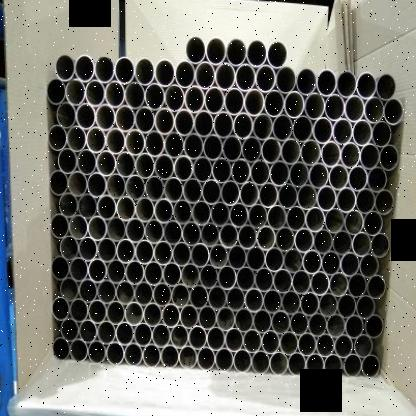pipe: (185, 34, 206, 64), (226, 36, 247, 66), (124, 80, 145, 109), (134, 57, 155, 86), (94, 54, 115, 83), (267, 40, 288, 69), (275, 64, 296, 93), (164, 83, 185, 112), (235, 62, 256, 91), (246, 38, 267, 67), (296, 66, 317, 95), (224, 86, 244, 116), (195, 60, 215, 90), (114, 104, 135, 132), (85, 125, 106, 153), (114, 56, 135, 84), (74, 54, 95, 82), (174, 60, 195, 88), (356, 71, 377, 99), (154, 58, 175, 86), (134, 105, 155, 133), (202, 133, 223, 161), (84, 78, 105, 106), (193, 109, 214, 137), (272, 114, 293, 142), (173, 108, 194, 136), (300, 138, 321, 166), (363, 95, 384, 123), (320, 140, 341, 168), (316, 68, 337, 96), (252, 112, 273, 140), (312, 116, 333, 144), (204, 86, 224, 115), (215, 61, 235, 90), (105, 79, 125, 108), (264, 89, 284, 118), (154, 106, 174, 135), (144, 81, 164, 110), (244, 87, 264, 116), (184, 84, 204, 113), (376, 73, 397, 100), (144, 130, 165, 157), (304, 92, 325, 119), (277, 182, 298, 209), (106, 172, 126, 200), (55, 52, 75, 80), (95, 103, 115, 131), (46, 77, 66, 105), (164, 130, 184, 158), (206, 36, 226, 64), (115, 150, 135, 178), (222, 134, 242, 162), (213, 110, 233, 138), (66, 124, 86, 152), (87, 170, 107, 198), (261, 136, 281, 164), (336, 70, 356, 98), (284, 90, 304, 118), (344, 94, 364, 122), (352, 118, 372, 146), (183, 132, 203, 160), (324, 93, 344, 121), (269, 160, 290, 186), (288, 161, 309, 187), (316, 185, 337, 211), (328, 164, 349, 190), (332, 118, 353, 144), (56, 101, 76, 128), (292, 115, 312, 142), (154, 153, 174, 180), (379, 144, 399, 171), (336, 186, 356, 213), (383, 97, 403, 124), (340, 141, 360, 168), (125, 128, 144, 156), (256, 64, 275, 92), (66, 78, 85, 106), (372, 120, 391, 148), (348, 164, 367, 192), (233, 111, 252, 139), (250, 158, 269, 186), (153, 240, 173, 266), (163, 219, 183, 245), (172, 198, 192, 224), (143, 260, 163, 286), (305, 206, 325, 232), (144, 175, 164, 201), (49, 170, 69, 196), (125, 216, 145, 242), (125, 174, 145, 200), (78, 236, 98, 262), (256, 224, 276, 250), (281, 138, 301, 164), (173, 154, 193, 180), (313, 228, 333, 254), (106, 258, 126, 284), (286, 205, 306, 231), (308, 162, 328, 188), (180, 262, 200, 288), (68, 214, 88, 240), (332, 229, 352, 255), (310, 270, 330, 296), (347, 272, 367, 298), (67, 170, 87, 196), (281, 289, 301, 315), (106, 216, 126, 242), (283, 248, 303, 274), (59, 276, 79, 302), (324, 207, 344, 233), (367, 166, 387, 192), (106, 127, 125, 154), (77, 148, 96, 175), (212, 156, 231, 183), (76, 102, 95, 129), (360, 142, 379, 169), (231, 158, 250, 185), (96, 149, 115, 176), (297, 184, 317, 209), (78, 278, 98, 303), (302, 249, 322, 274), (326, 313, 346, 338), (124, 301, 144, 326), (59, 235, 79, 260), (323, 353, 343, 378), (366, 274, 386, 299), (144, 218, 163, 244), (116, 195, 135, 221), (192, 200, 211, 226), (135, 152, 154, 178), (97, 194, 116, 220), (59, 192, 78, 218), (154, 198, 173, 224), (88, 214, 107, 240), (58, 148, 77, 174), (164, 176, 183, 202), (229, 202, 248, 228), (78, 193, 97, 219), (161, 302, 180, 328), (182, 220, 201, 246), (183, 178, 202, 204), (193, 156, 212, 182), (97, 237, 116, 263), (248, 203, 267, 229), (190, 242, 209, 268), (238, 224, 257, 250), (240, 180, 259, 206), (69, 256, 88, 282), (217, 264, 236, 290), (172, 240, 191, 266), (219, 223, 238, 249), (135, 196, 154, 222), (135, 238, 154, 264), (246, 245, 265, 271), (294, 227, 313, 253), (363, 210, 382, 236), (50, 212, 69, 238), (116, 238, 135, 264), (356, 188, 375, 214), (48, 124, 67, 150), (273, 268, 292, 294), (236, 266, 255, 292), (244, 286, 263, 312), (226, 286, 245, 312), (344, 209, 363, 235), (97, 278, 116, 304), (189, 284, 208, 310), (199, 264, 218, 290), (200, 222, 219, 248), (329, 271, 348, 297), (134, 280, 153, 306), (171, 282, 190, 308), (267, 204, 286, 230), (209, 242, 228, 268), (88, 298, 107, 324), (216, 305, 235, 331), (275, 226, 294, 252), (242, 136, 261, 162), (375, 189, 394, 215), (88, 257, 107, 283), (202, 178, 220, 205), (340, 252, 360, 276), (133, 322, 153, 346), (50, 256, 70, 280), (321, 250, 340, 275), (334, 333, 353, 358), (106, 300, 125, 325), (115, 321, 134, 346), (142, 342, 161, 367), (234, 307, 253, 332), (251, 349, 270, 374), (198, 304, 217, 329), (343, 353, 362, 378), (253, 309, 272, 334), (356, 295, 375, 320), (60, 316, 79, 341), (51, 296, 70, 321), (279, 330, 298, 355), (300, 290, 319, 315), (211, 200, 229, 226), (152, 322, 170, 348), (179, 344, 197, 370), (163, 260, 181, 286), (228, 244, 246, 270), (153, 282, 171, 308), (221, 180, 239, 206), (360, 252, 378, 278), (319, 291, 337, 317), (265, 246, 283, 272), (180, 304, 198, 330), (116, 280, 134, 306), (259, 182, 277, 208), (352, 230, 370, 256), (263, 288, 281, 314), (290, 310, 308, 336), (371, 232, 389, 258), (106, 340, 124, 366), (292, 269, 310, 295), (160, 344, 179, 368), (170, 324, 189, 348), (125, 260, 144, 284), (124, 342, 143, 366), (69, 298, 88, 322), (345, 314, 364, 338), (271, 310, 290, 334), (69, 338, 88, 362), (261, 330, 280, 354), (255, 266, 273, 291), (188, 325, 206, 350), (337, 293, 355, 318), (88, 339, 106, 364), (79, 318, 97, 343), (207, 326, 225, 351), (208, 285, 226, 310), (215, 347, 233, 372), (354, 333, 372, 358), (243, 328, 261, 353), (270, 350, 288, 375), (225, 327, 243, 352), (306, 352, 324, 377), (288, 351, 306, 376), (308, 312, 326, 337), (316, 333, 334, 358), (52, 336, 70, 361), (97, 320, 115, 344), (197, 346, 215, 370), (143, 302, 161, 326), (233, 348, 251, 372), (365, 314, 383, 338), (298, 332, 316, 356), (362, 354, 380, 378)
